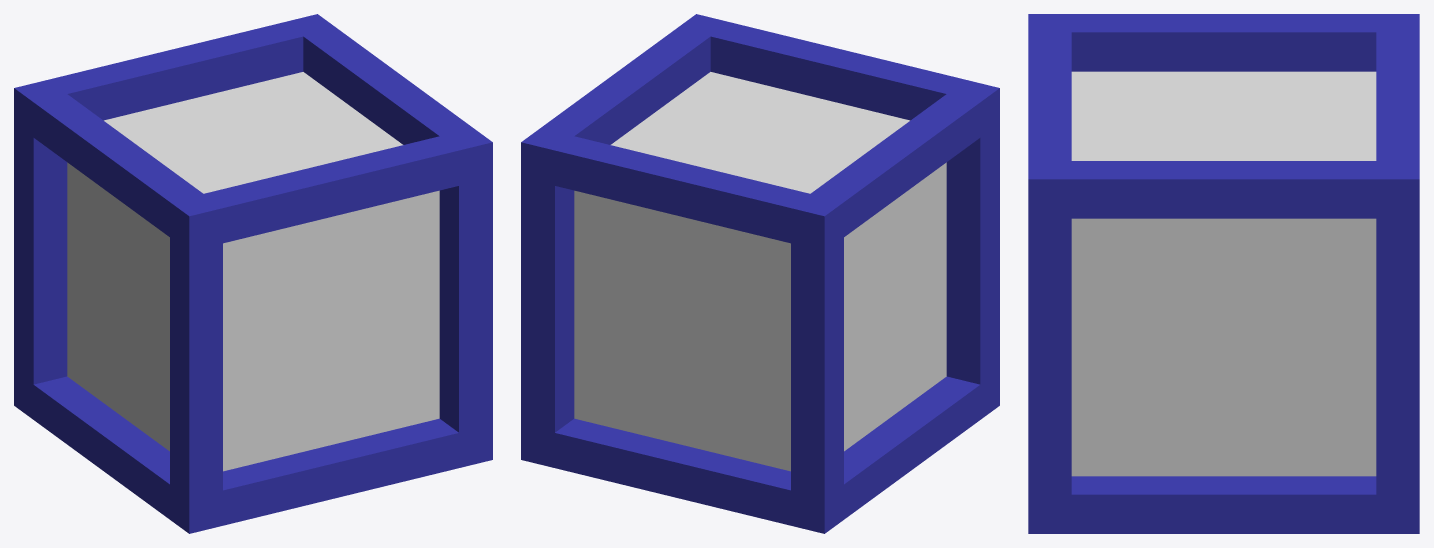
The model's file is classroom_blockBLUE_v2.fbx.
3 renders of one model, left to right at view 1: azimuth 30°, elevation 25°; view 2: azimuth 150°, elevation 25°; view 3: azimuth 270°, elevation 25°, orthographic. The views are drawn at different scales.
Parts seen in each view (by area): view 1: pCube19; view 2: pCube19; view 3: pCube19.
Part boxes in pixels (x1,y1,x2,y2): pCube19: (14,14,492,533); pCube19: (521,14,999,533); pCube19: (1028,14,1419,533).
Bounding box in the file's own units: 1 × 1 × 1.
